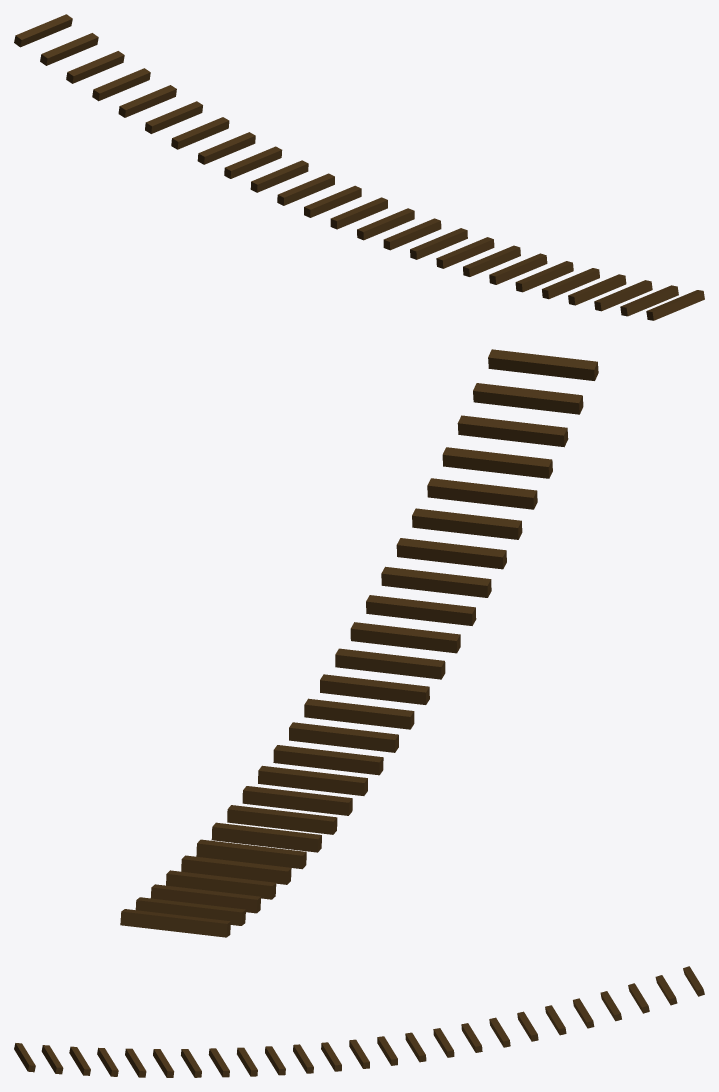
The model's file is maderas_puente.obj.
3 views of the same model, one above another, from view 1: azimuth 30°, elevation 25°; view 2: azimuth 150°, elevation 25°; view 3: azimuth 270°, elevation 25° (orthographic). The views are drawn at different scales.
Visible parts, largest first — view 1: Cube.005; view 2: Cube.005; view 3: Cube.005.
Boxes of the visible parts, x1=… form: Cube.005: x1=14, y1=14, x2=704, y2=320; Cube.005: x1=120, y1=349, x2=598, y2=937; Cube.005: x1=14, y1=966, x2=704, y2=1077.
Bounding box in the file's own units: 3.94 × 0.8203 × 11.88.
